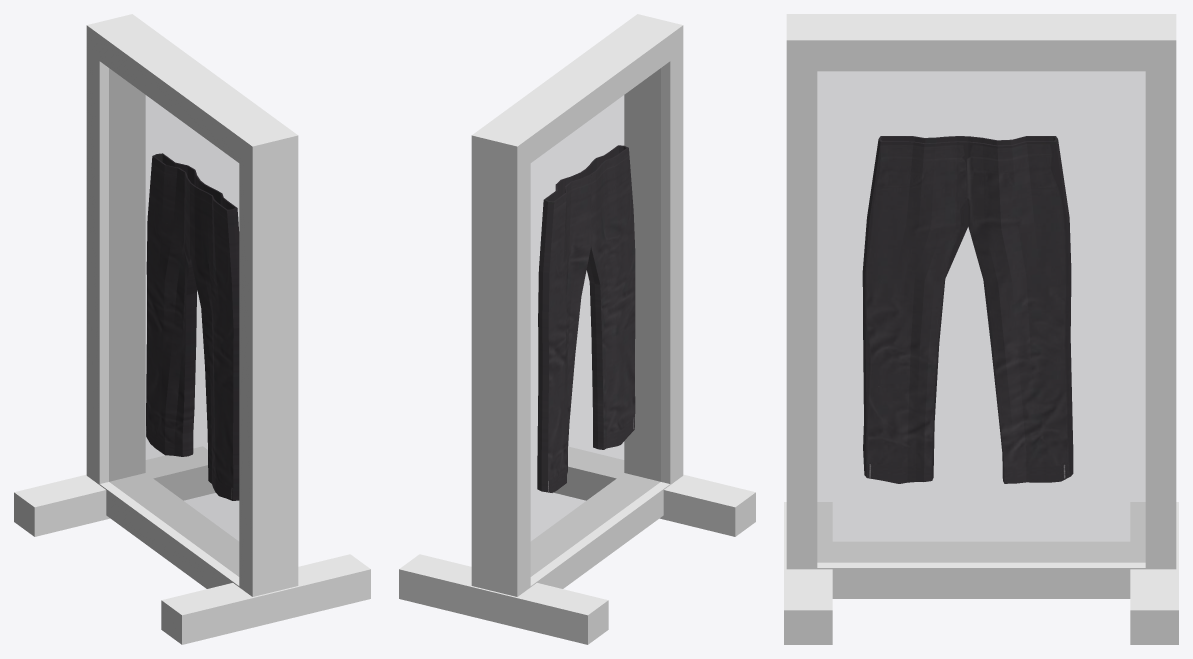
File: zeldris.gltf
3 renders of one model, left to right at view 1: azimuth 30°, elevation 25°; view 2: azimuth 150°, elevation 25°; view 3: azimuth 270°, elevation 25°, orthographic. The views are drawn at different scales.
Parts seen in each view (by area): view 1: Cube.057, Plane.019; view 2: Cube.057, Plane.019; view 3: Cube.057, Plane.019.
Part boxes in pixels (bbox=[...]): Cube.057: bbox=[14, 14, 370, 644]; Plane.019: bbox=[146, 153, 239, 500]; Cube.057: bbox=[399, 14, 755, 644]; Plane.019: bbox=[537, 145, 635, 492]; Cube.057: bbox=[784, 14, 1178, 644]; Plane.019: bbox=[862, 136, 1073, 483].
Bounding box in the file's own units: 0.2894 × 0.7029 × 0.4462.
4 materials, 1 textured.
